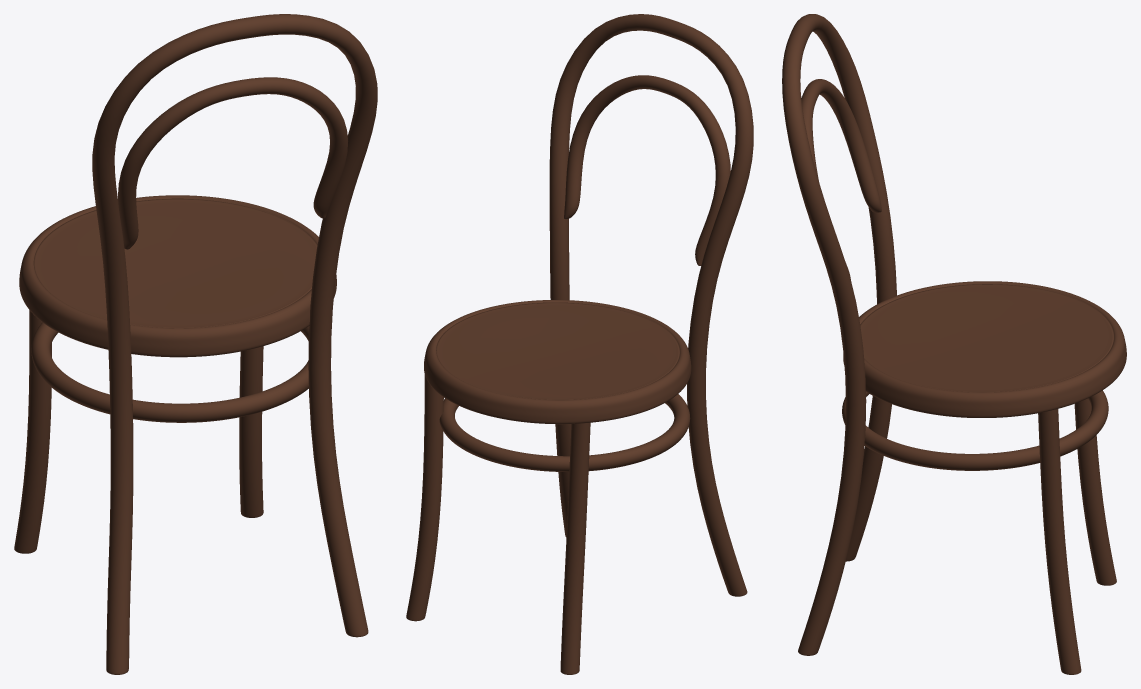
The model's file is model-thonet-chair-18.glb.
The picture shows the model from 3 angles, left to right: view 1: azimuth 30°, elevation 25°; view 2: azimuth 150°, elevation 25°; view 3: azimuth 270°, elevation 25°; orthographic projection. The views are drawn at different scales.
Parts seen in each view (by area): view 1: Plane_3, Plane.004_4; view 2: Plane_3, Plane.004_4; view 3: Plane_3, Plane.004_4.
Part boxes in pixels (x1=…): Plane_3: x1=14, y1=14, x2=377, y2=674; Plane.004_4: x1=33, y1=198, x2=317, y2=328; Plane_3: x1=406, y1=14, x2=753, y2=674; Plane.004_4: x1=436, y1=302, x2=679, y2=399; Plane_3: x1=782, y1=14, x2=1126, y2=674; Plane.004_4: x1=860, y1=284, x2=1113, y2=392.
Bounding box in the file's own units: 0.4284 × 0.8907 × 0.4866.
